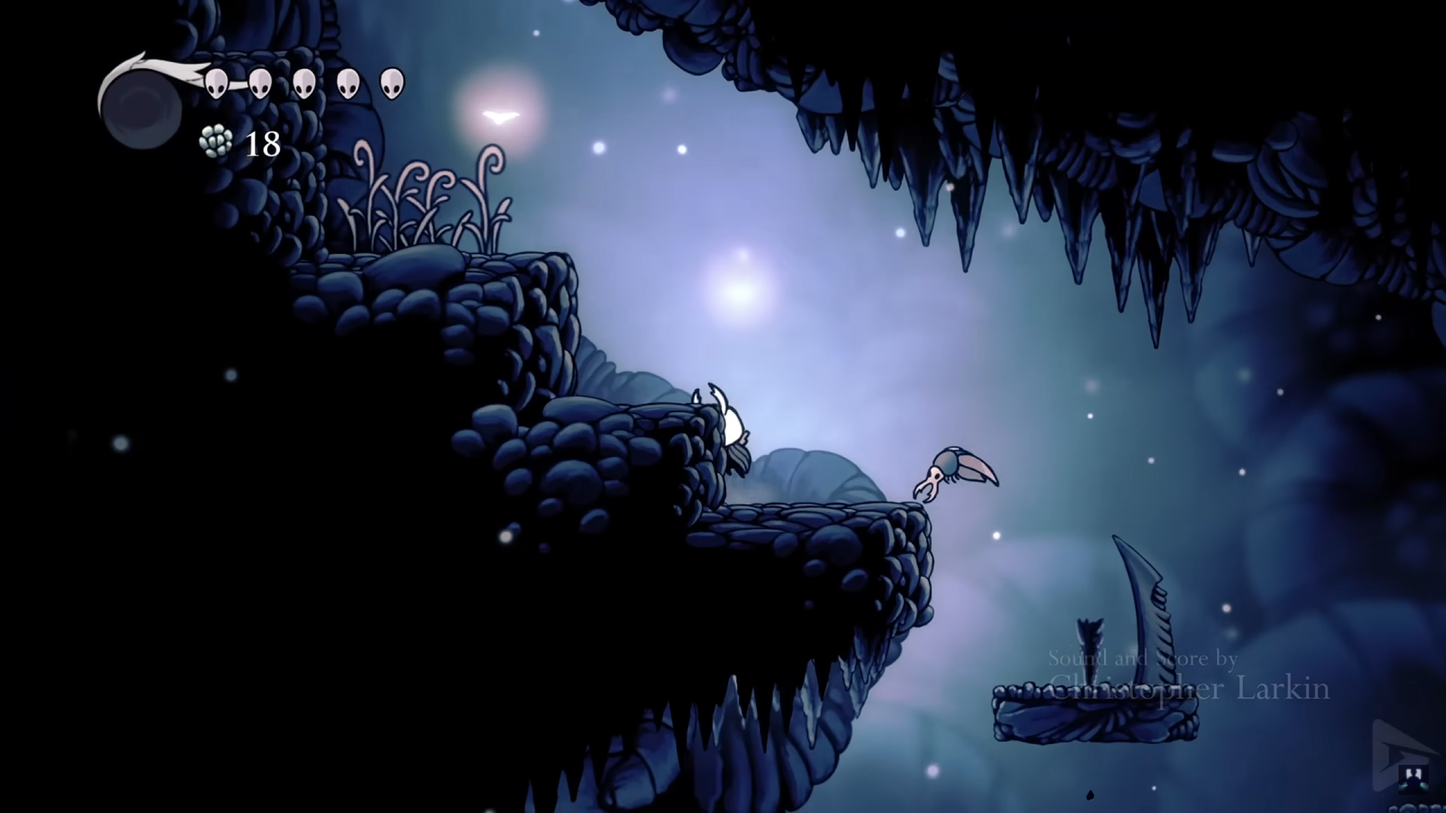HK: (694, 382, 754, 495)
